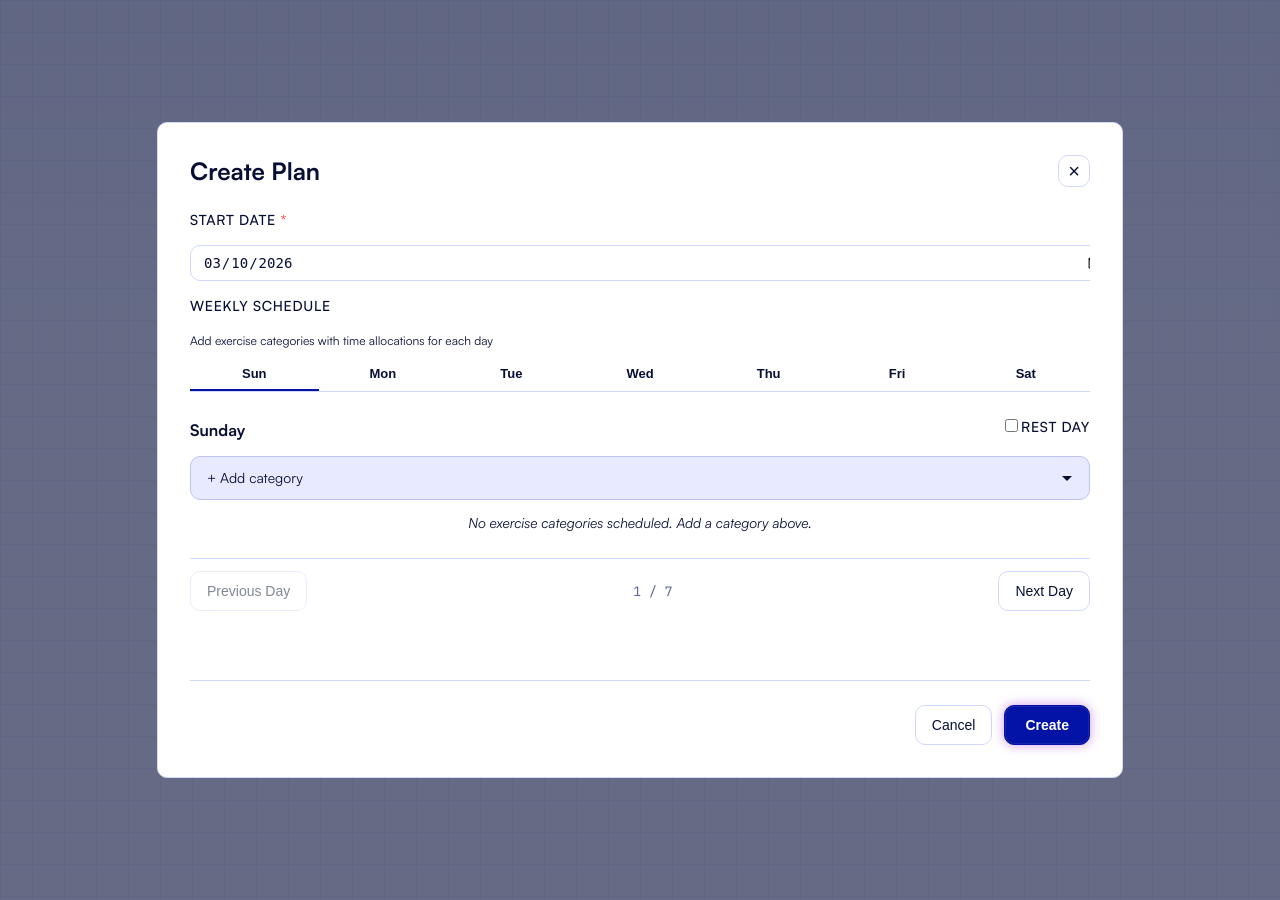
Test: PlanFormModal › switching tab shows the selected day
Click the button "Tue".
click(512, 375)  # box [447,358,576,391]
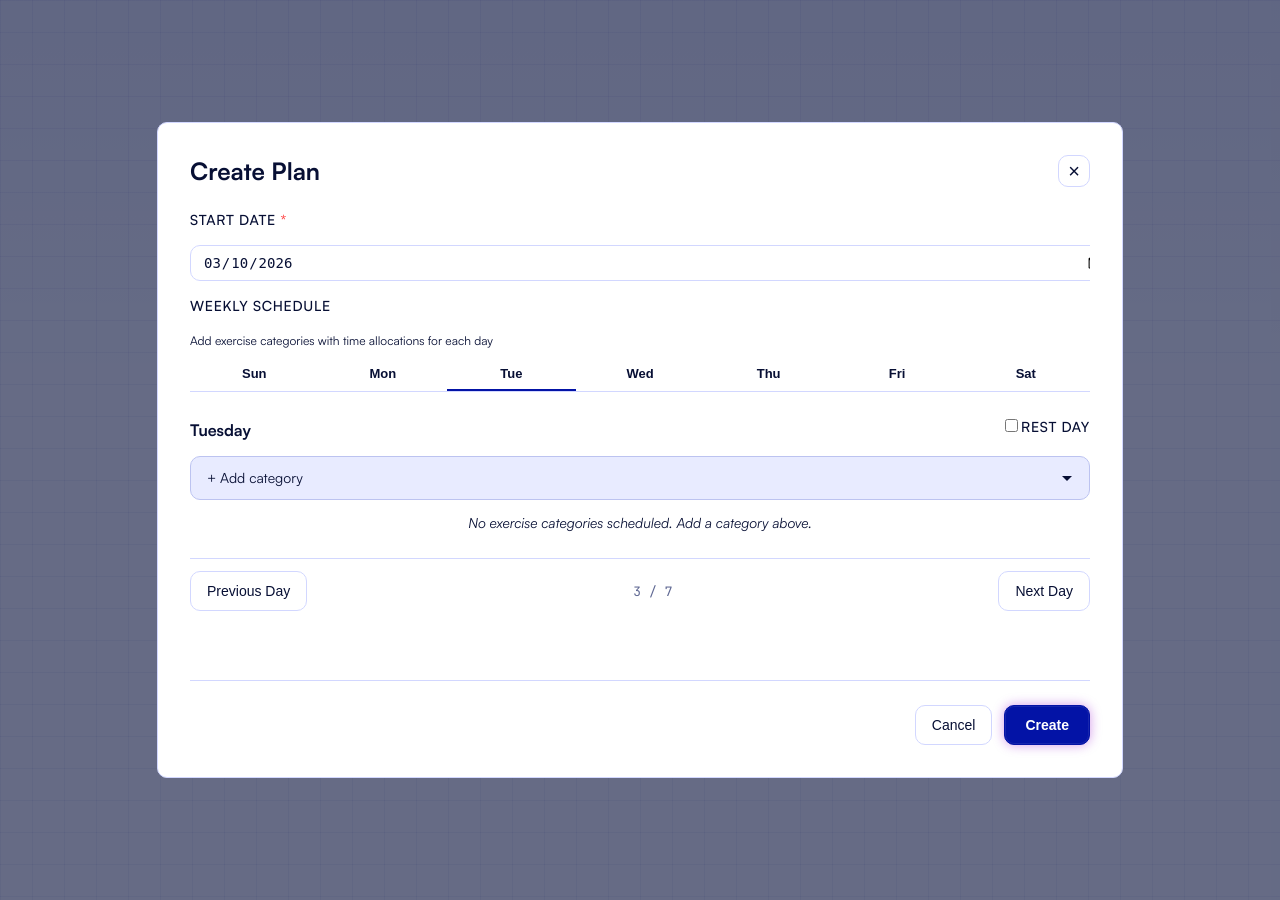
Expected: the heading "Tuesday" is shown, [190,419,251,441]
Expected: the heading "Sunday" is gone
